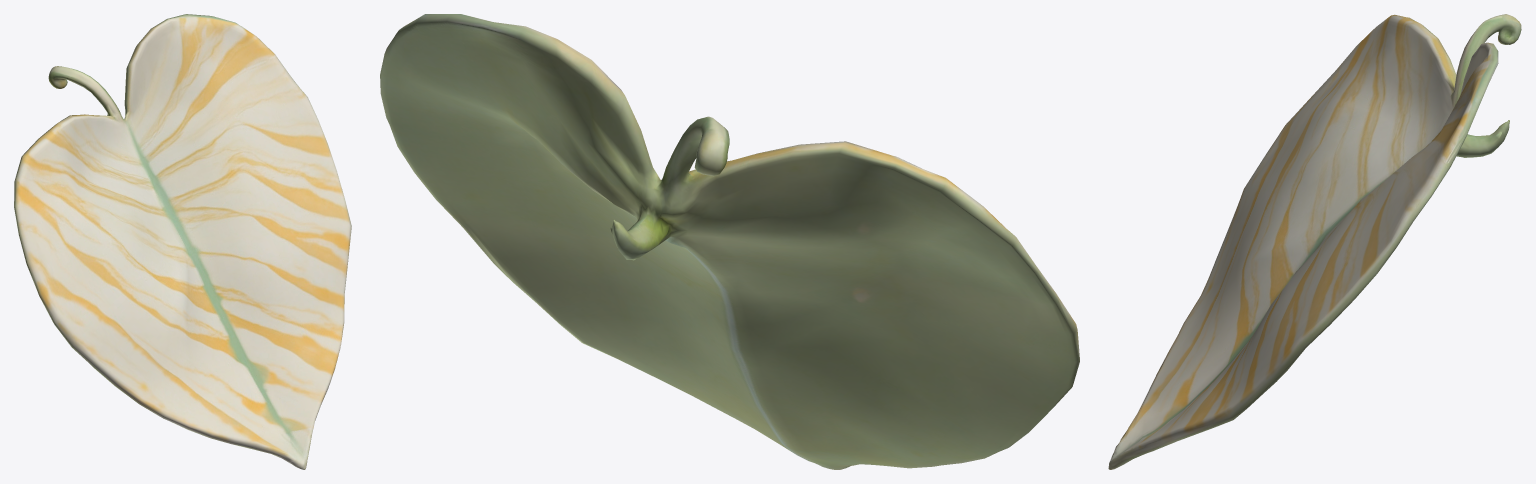
The model's file is pothos_variegated.glb.
The picture shows the model from 3 angles, left to right: view 1: azimuth 30°, elevation 25°; view 2: azimuth 150°, elevation 25°; view 3: azimuth 270°, elevation 25°; orthographic projection. The views are drawn at different scales.
Size of the model in its own units: 2 by 1.99 by 1.73.
1 material, 1 textured.
